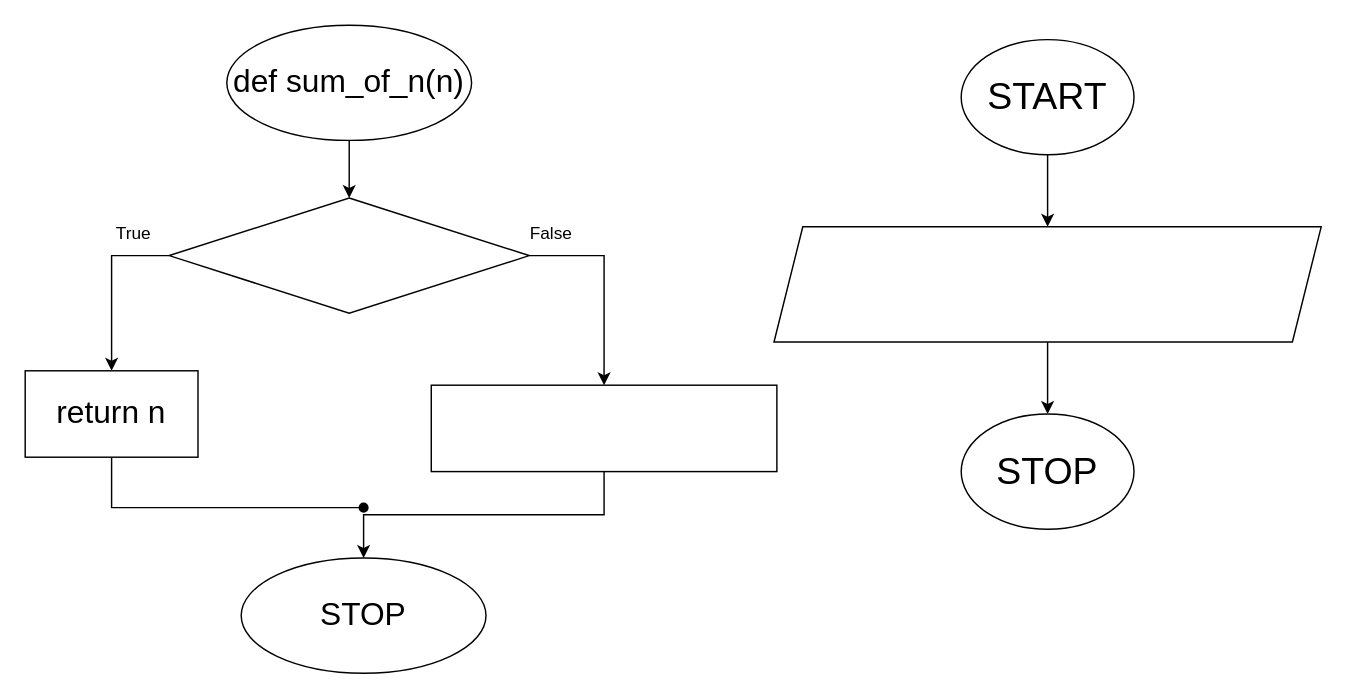
The diagram is 1346 pixels wide and 698 high, and some of its shapes have lost their labels. Here are the shapes that lost their labels. From the top down, the centre of each, then its label:
At [348,255]: "if n==1 or n==0".
At [1047,283]: "print(sum_of_n(5))".
At [603,428]: "return n+sum_of_n(n-1)".
